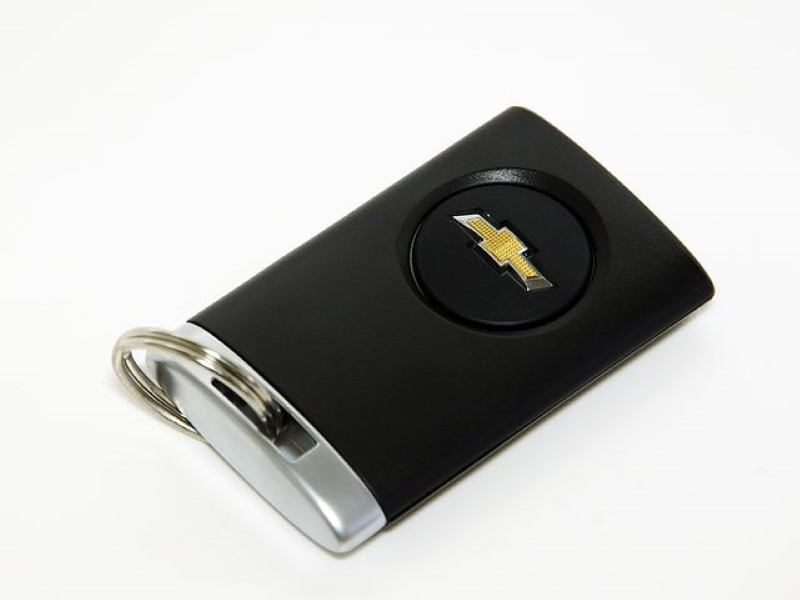carkey: (109, 101, 715, 562)
